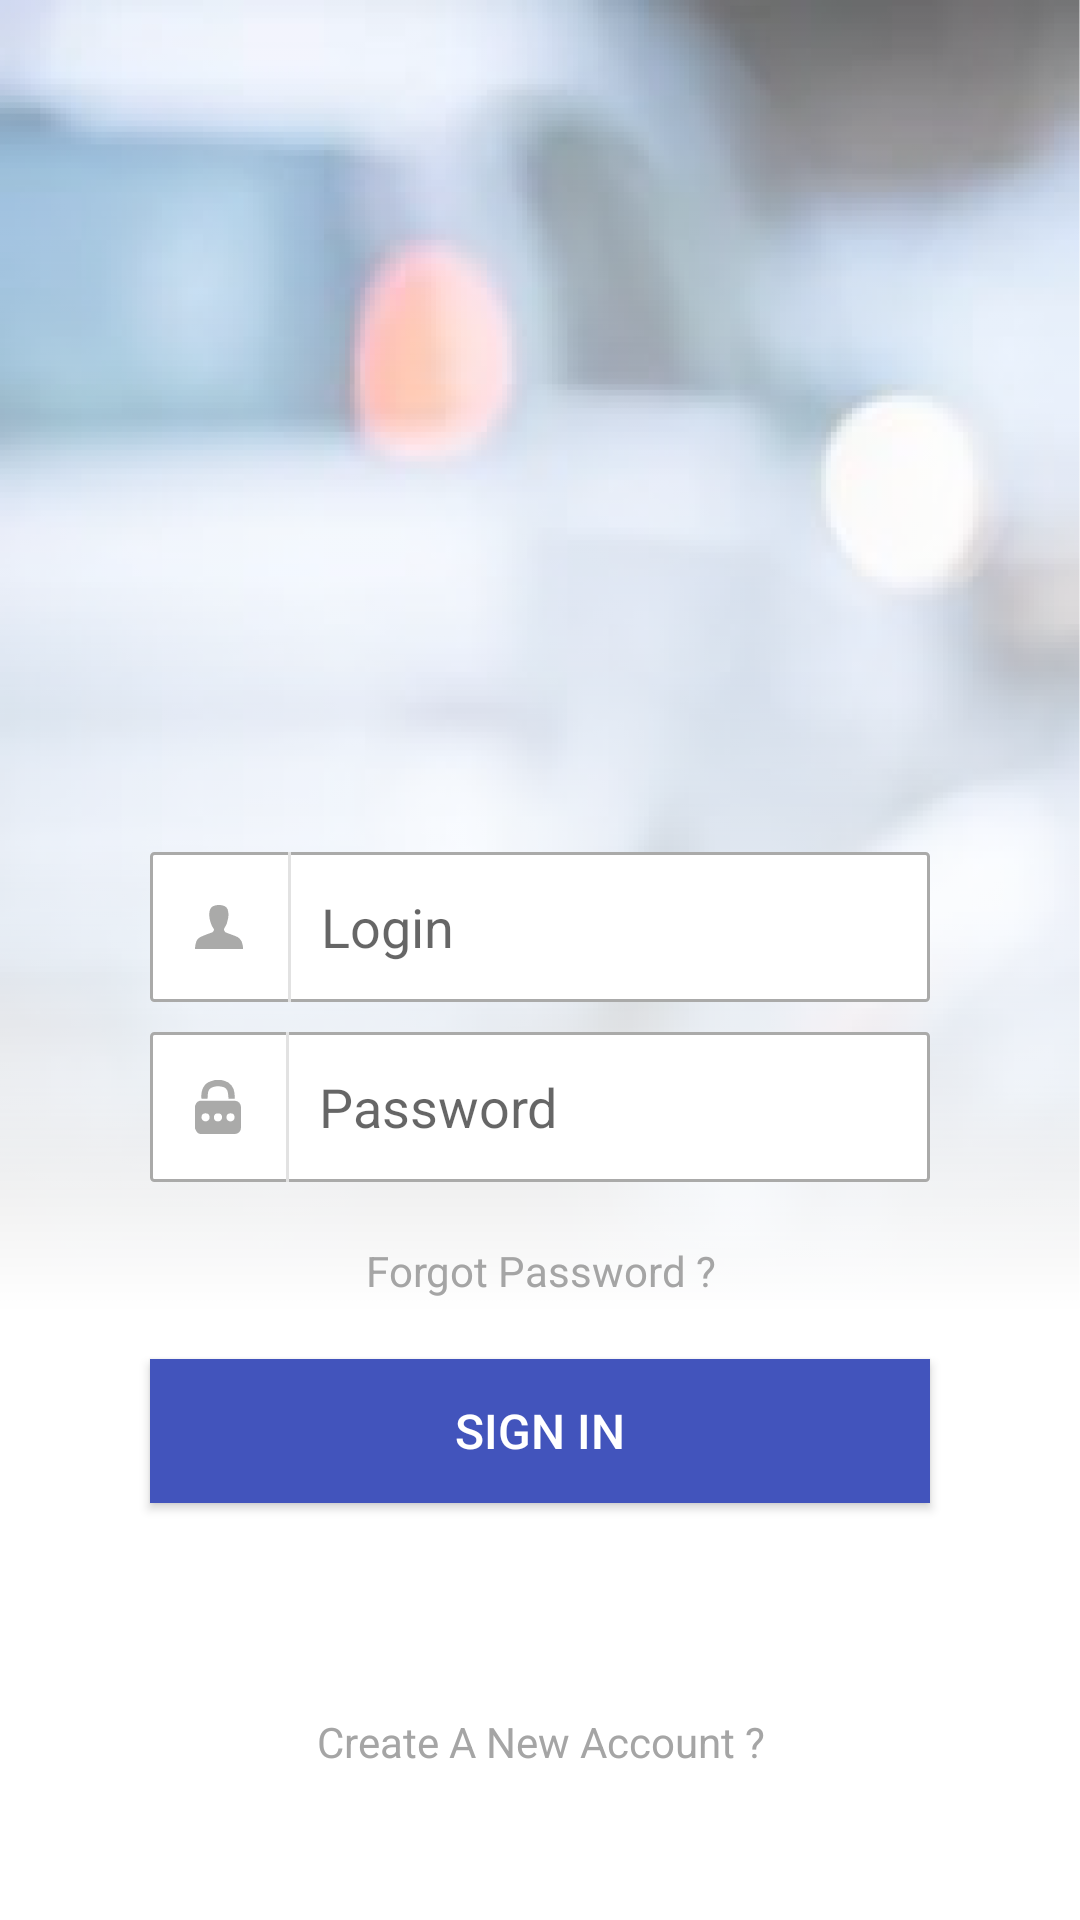

Locate icon controls on the screen. Image size 1080 × 1920, boxes as (x1, y1, x2, y2).
auth: (195, 905, 243, 949)
